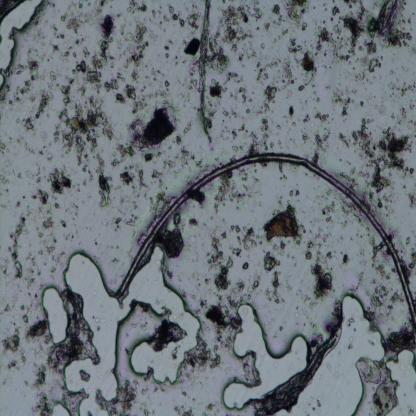Air bubble: (63, 244, 204, 416), (276, 294, 388, 415), (224, 302, 310, 410), (0, 2, 44, 87), (384, 349, 416, 415), (38, 285, 70, 342), (48, 400, 74, 416)
Background material: (114, 94, 181, 182), (208, 2, 257, 108), (54, 83, 115, 168), (349, 119, 413, 193), (206, 223, 265, 300), (49, 284, 93, 372), (72, 13, 116, 86), (315, 0, 364, 63), (115, 25, 148, 101), (248, 84, 276, 157), (262, 202, 307, 247), (369, 264, 403, 322), (32, 168, 78, 209), (306, 202, 338, 260), (10, 125, 53, 163), (315, 199, 359, 235), (300, 109, 333, 157), (210, 173, 248, 214), (204, 302, 244, 340), (35, 216, 61, 270), (91, 148, 114, 208), (182, 338, 223, 371), (8, 216, 29, 280), (95, 379, 134, 412), (261, 253, 285, 306), (23, 92, 56, 130), (292, 40, 316, 90), (309, 259, 335, 303), (363, 18, 383, 74), (257, 60, 292, 91), (161, 220, 187, 261), (149, 320, 187, 348), (20, 257, 40, 307), (22, 313, 52, 345), (167, 4, 200, 32), (384, 326, 416, 354), (18, 58, 44, 92), (34, 363, 51, 415), (0, 325, 23, 363), (2, 78, 31, 108), (61, 2, 89, 33), (283, 0, 311, 30), (148, 62, 173, 92), (117, 166, 147, 191), (361, 237, 386, 264), (332, 87, 354, 117), (396, 1, 416, 34), (58, 212, 79, 243), (274, 177, 300, 202), (387, 82, 416, 101), (147, 190, 172, 212), (181, 35, 202, 61), (178, 146, 201, 169), (273, 127, 299, 146), (0, 163, 13, 197), (126, 0, 149, 18), (384, 34, 412, 48), (114, 213, 138, 229), (216, 102, 240, 117), (270, 3, 284, 27), (192, 190, 209, 206), (351, 70, 366, 87), (188, 62, 198, 86), (13, 193, 30, 207), (226, 142, 240, 157), (234, 121, 249, 135), (186, 216, 200, 230), (48, 68, 57, 89), (0, 141, 10, 159), (78, 369, 92, 381), (286, 104, 296, 119), (50, 42, 60, 56), (163, 42, 170, 60), (357, 95, 365, 110), (228, 128, 238, 140), (342, 250, 350, 264)
Cellulose filter fibre: (256, 308, 343, 414), (199, 0, 212, 143), (377, 0, 397, 33), (0, 0, 23, 25)
Microfibre: (115, 155, 416, 330)
